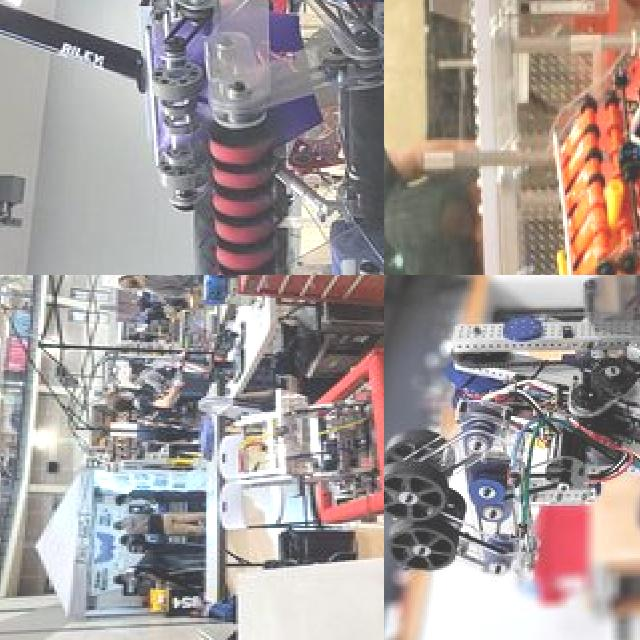FRC-Robots: (0, 0, 384, 275), (385, 275, 640, 640), (170, 344, 384, 540), (522, 0, 640, 275)
